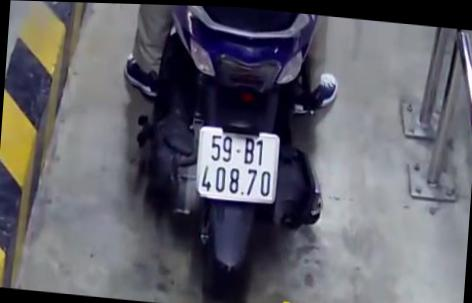LP: (192, 123, 282, 205)
